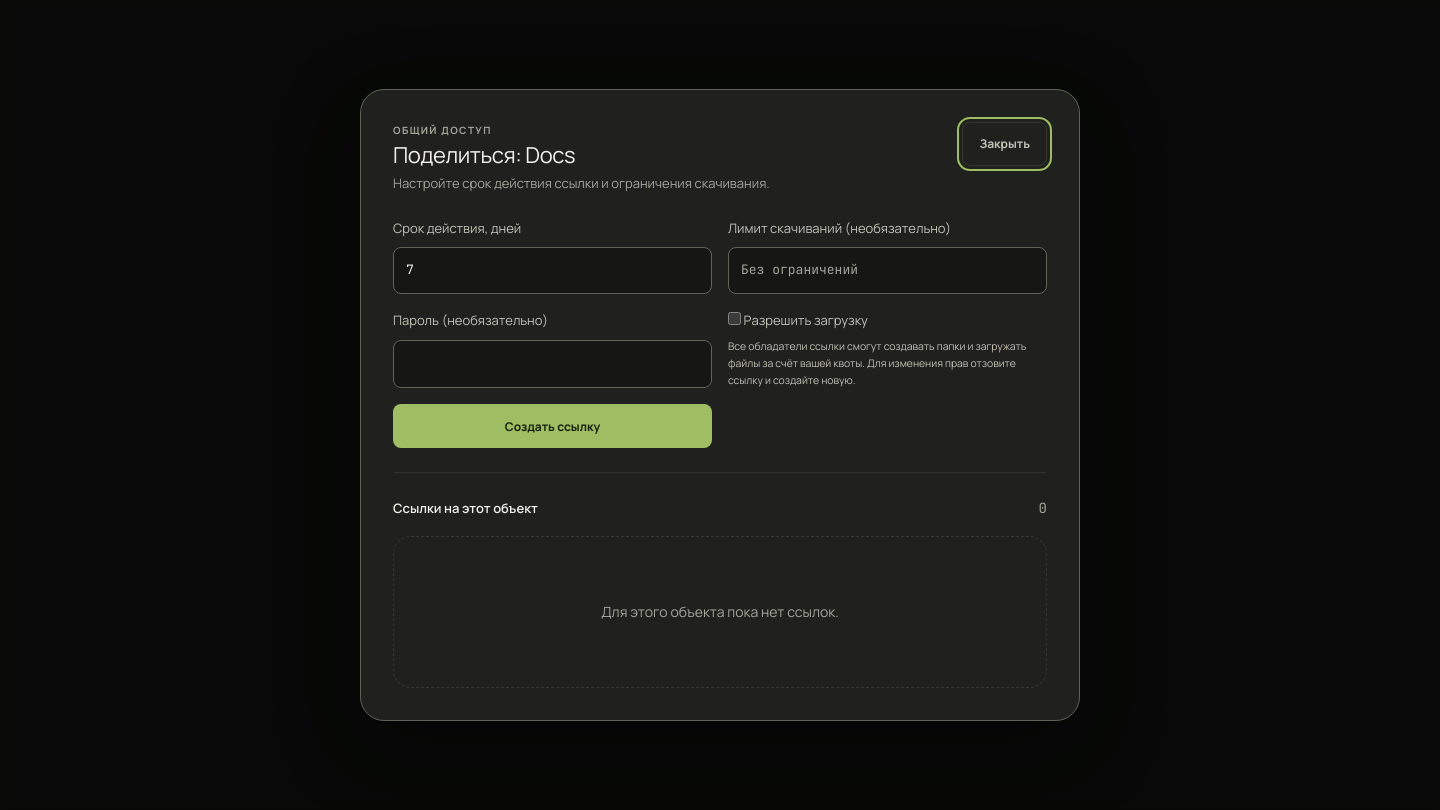
ShareDialog › creates a folder share with the mirror file id
Check: the text "Для этого объекта пока нет ссылок." is shown, box [393,536,1047,688]
Click the button "Создать ссылку": (552, 426) [393,404,712,448]
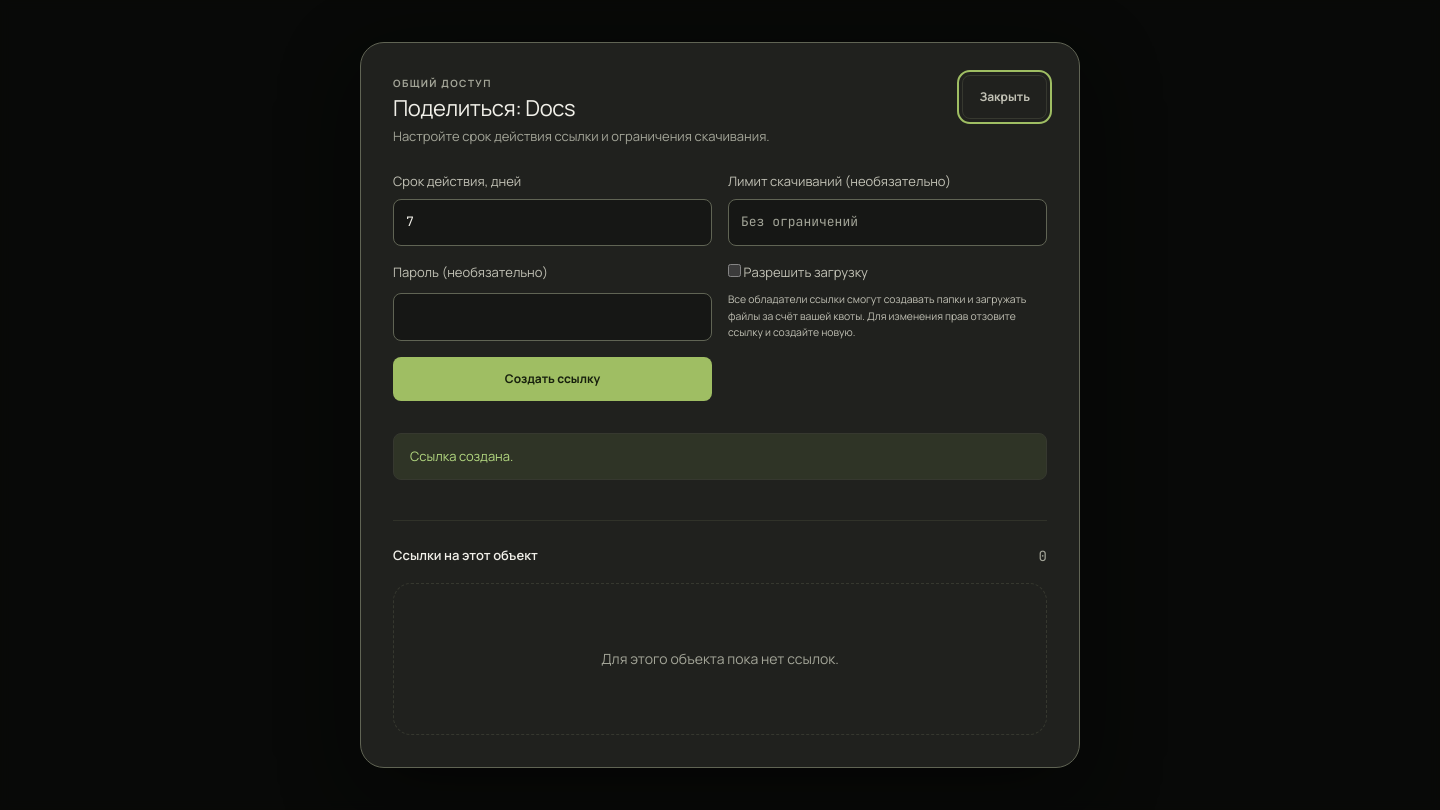
Check: the text "Ссылка создана." is shown, box [393,433,1047,480]
